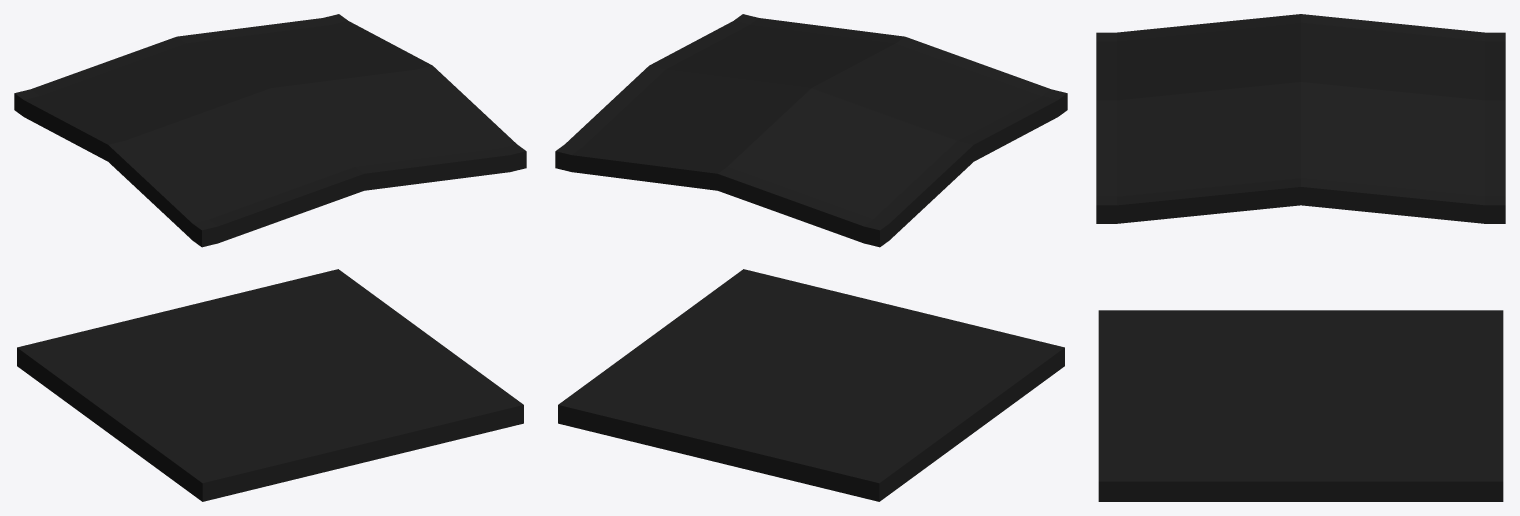
File: Center.fbx
3 renders of one model, left to right at view 1: azimuth 30°, elevation 25°; view 2: azimuth 150°, elevation 25°; view 3: azimuth 270°, elevation 25°, orthographic. The views are drawn at different scales.
Visible parts, largest first — view 1: Ceiling, Floors.001; view 2: Ceiling, Floors.001; view 3: Ceiling, Floors.001.
Part boxes in pixels (x1,y1,x2,y2): Ceiling: (14,14,526,247); Floors.001: (17,269,523,501); Ceiling: (555,14,1067,247); Floors.001: (558,269,1064,501); Ceiling: (1096,14,1505,223); Floors.001: (1098,310,1503,501).
Size of the model in its own units: 20 by 18.05 by 20.
Materials: 2 (1 with a texture image).
